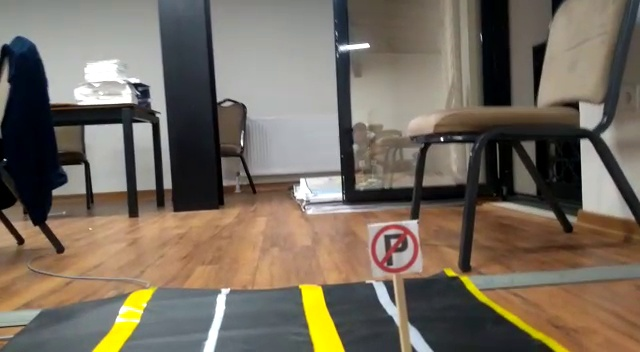park_yapilmaz: (369, 223, 419, 275)
